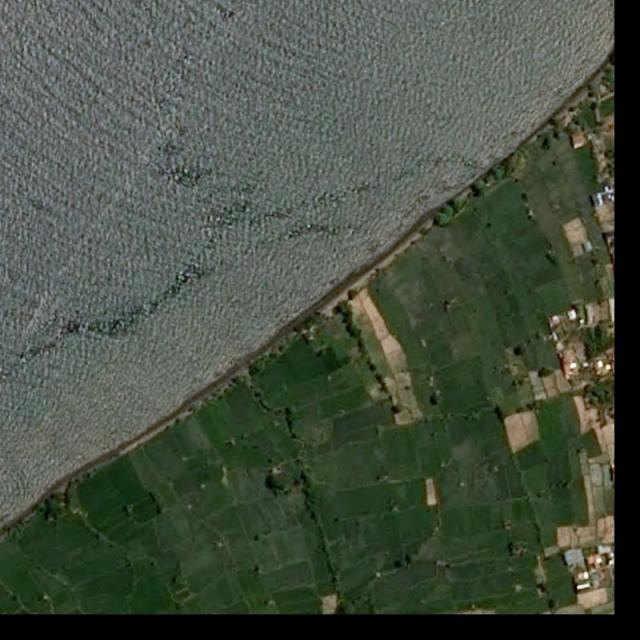ship: (18, 344, 25, 352)
